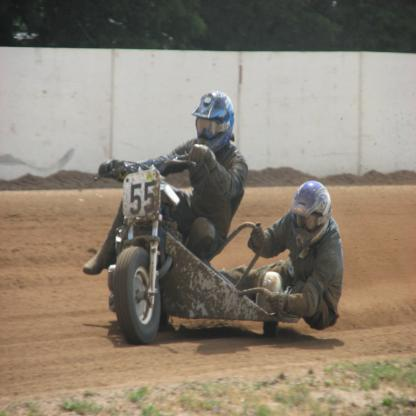Helmet: (288, 180, 332, 249), (190, 94, 235, 150)
